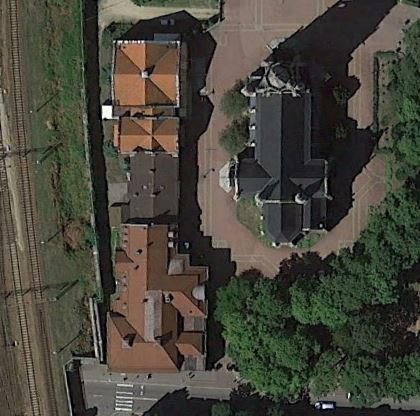block of flats: (105, 32, 213, 376)
church: (218, 33, 335, 248)
